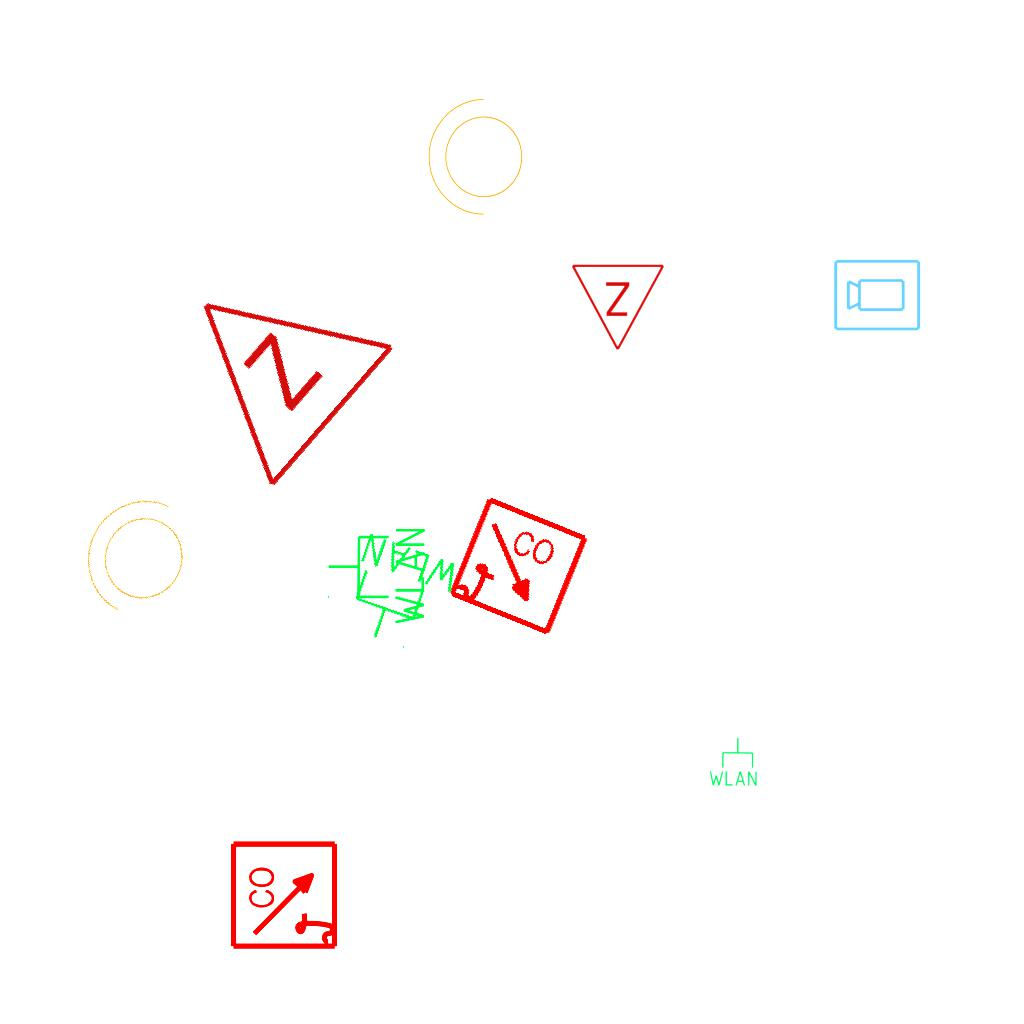KFO_Kamera_mit_Festobjektiv: (832, 256, 923, 333)
ROA_Rauchmelder_optisch_mit_Signalgeber_(Sockelsirene): (444, 493, 593, 642), (229, 838, 342, 951)
Scheinwerfer_fuer_Alarmbeleuchtung: (58, 475, 218, 643), (423, 94, 535, 226)
WLAN: (333, 528, 467, 661), (325, 524, 429, 629), (707, 736, 759, 788)
Zimmersignalleuchte: (128, 223, 408, 503), (570, 257, 668, 357)
